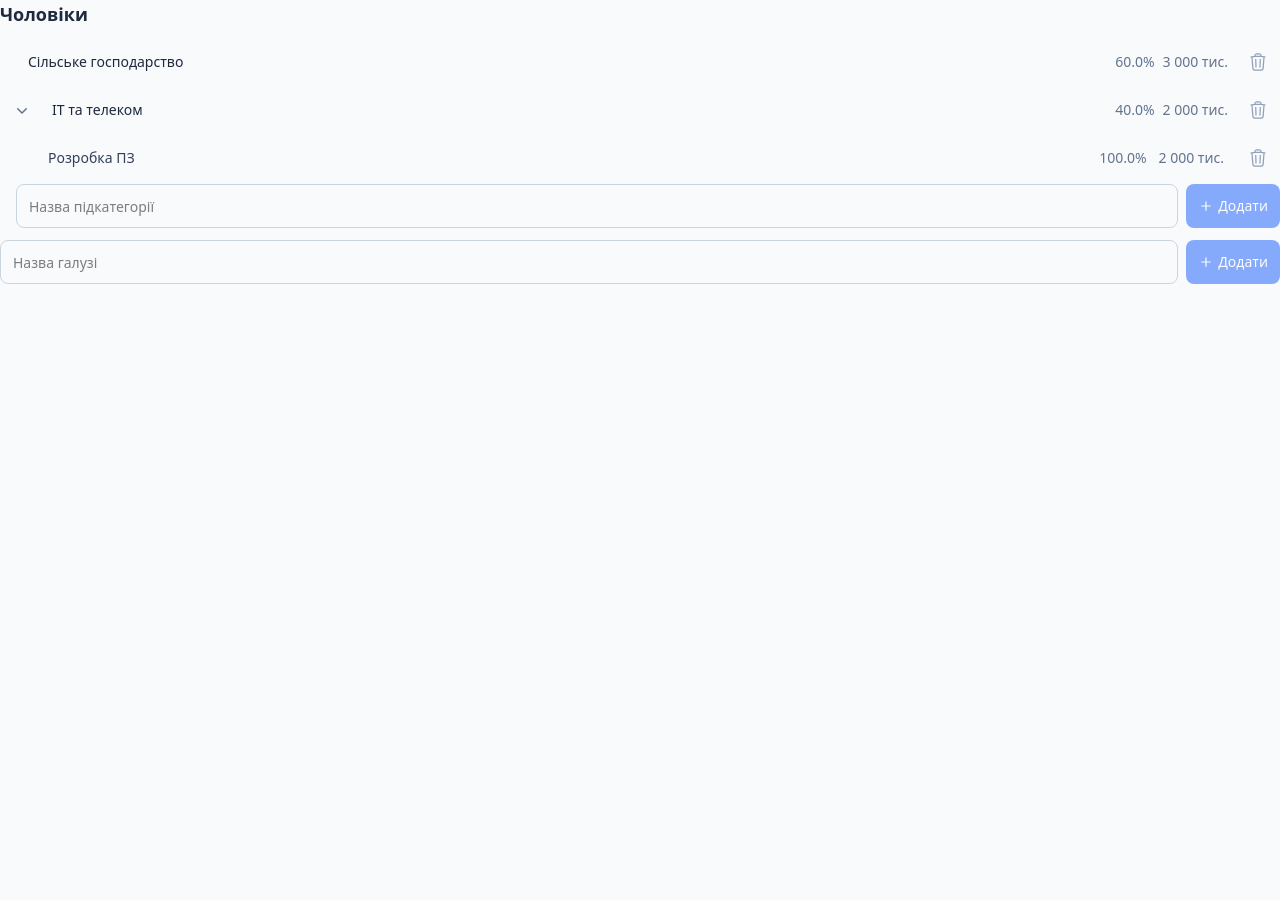
Test case: ConfigGenderSection remove flow › shows confirmation dialog when remove is clicked
The image size is (1280, 900).
# Click remove on the first industry (Сільське господарство)
Click the button named "Видалити " at (1258, 62), box [1236,40,1279,84]
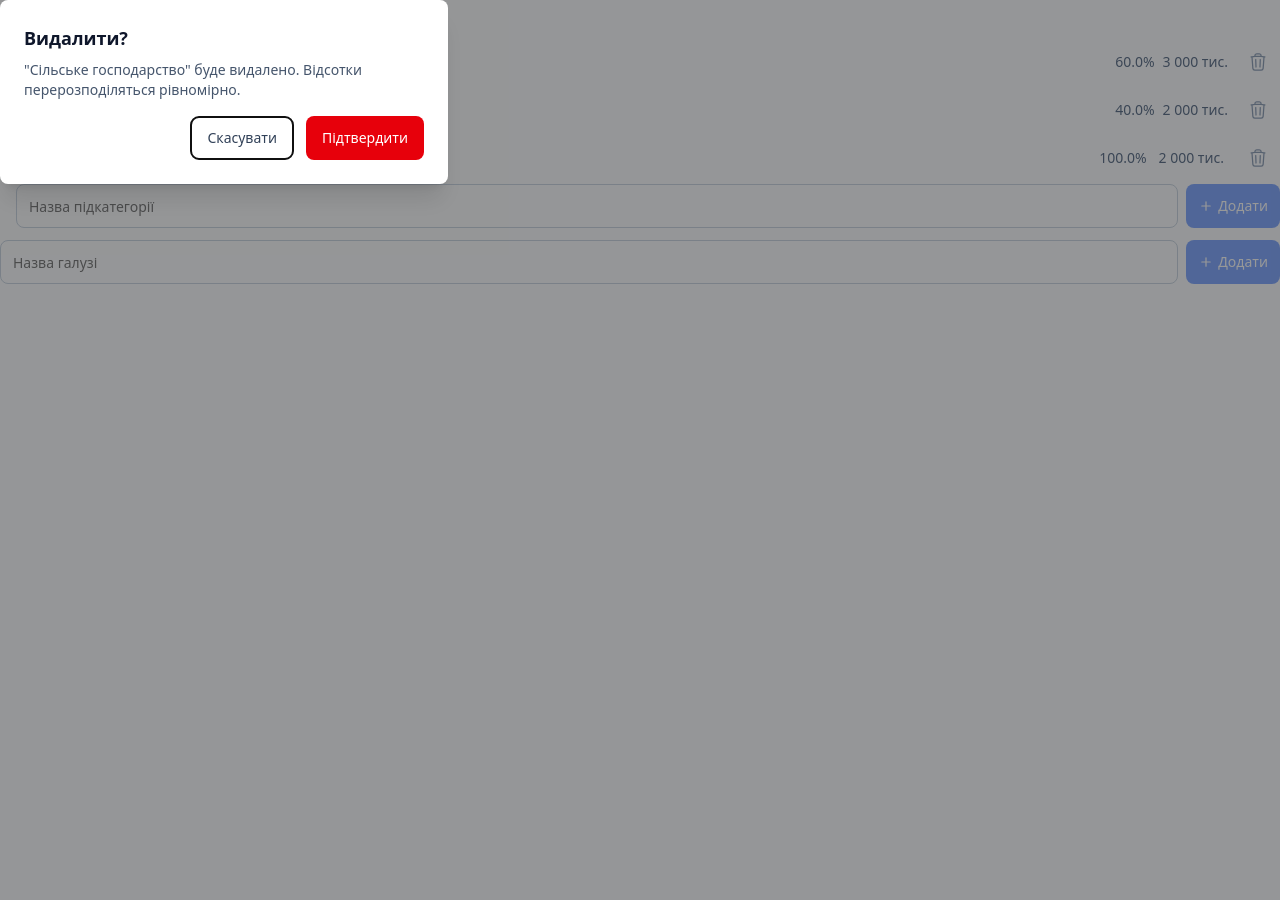
Check: the dialog is shown, box [0,0,448,184]
